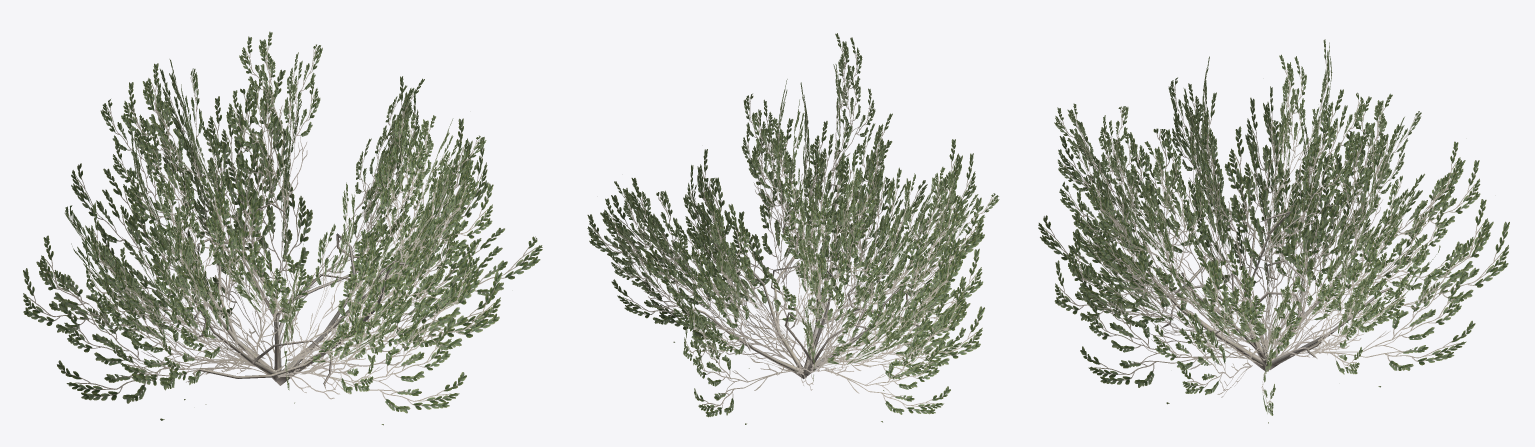
The model's file is plant-5.glb.
The picture shows the model from 3 angles, left to right: view 1: azimuth 30°, elevation 25°; view 2: azimuth 150°, elevation 25°; view 3: azimuth 270°, elevation 25°; orthographic projection. The views are drawn at different scales.
Visible parts, largest first — view 1: creosote branch 02_7_creosote branch 02_7Mat_0.049; view 2: creosote branch 02_7_creosote branch 02_7Mat_0.049; view 3: creosote branch 02_7_creosote branch 02_7Mat_0.049.
Part boxes in pixels (bbox=[...]): creosote branch 02_7_creosote branch 02_7Mat_0.049: bbox=[23, 31, 542, 425]; creosote branch 02_7_creosote branch 02_7Mat_0.049: bbox=[587, 33, 999, 424]; creosote branch 02_7_creosote branch 02_7Mat_0.049: bbox=[1038, 39, 1509, 423].
Bounding box in the file's own units: 1.48 × 1.17 × 1.44.
Materials: 2 (2 with a texture image).
